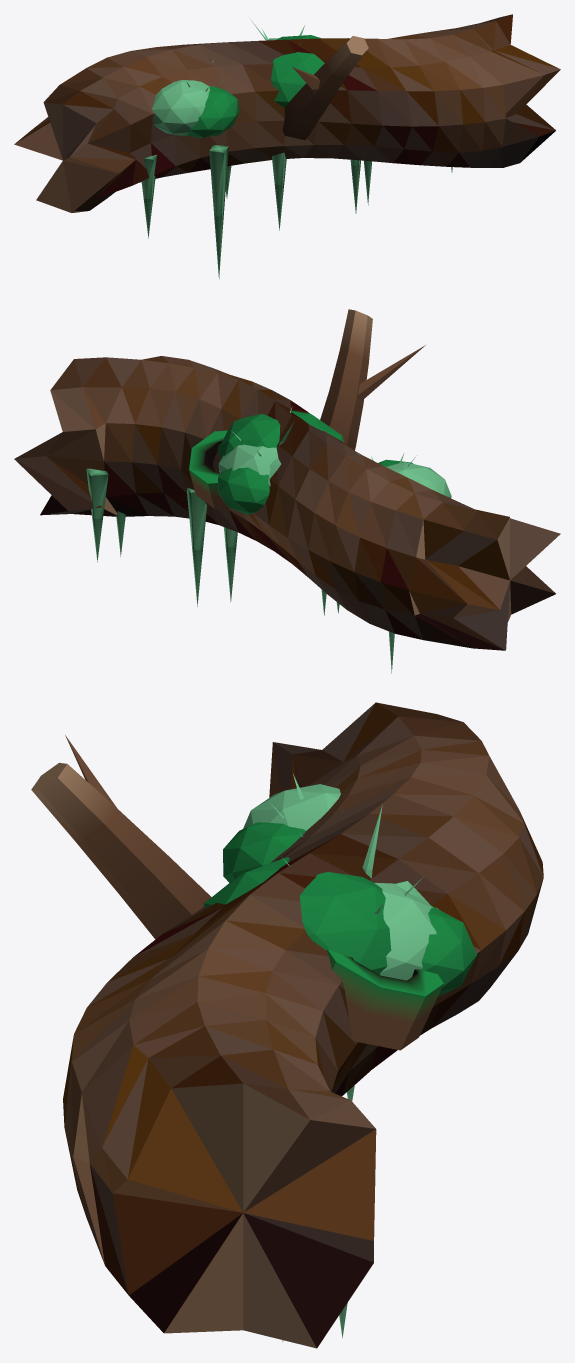
The model's file is pohon_tumbang_bridge_rainforest_559275 (1).glb.
3 views of the same model, one above another, from view 1: azimuth 30°, elevation 25°; view 2: azimuth 150°, elevation 25°; view 3: azimuth 270°, elevation 25° (orthographic). The views are drawn at different scales.
Visible parts, largest first — view 1: Batang_Melintang_Sungai; view 2: Batang_Melintang_Sungai; view 3: Batang_Melintang_Sungai.
Boxes of the visible parts, box(x1,y1,x2,y2) form: Batang_Melintang_Sungai: box(14, 14, 560, 279); Batang_Melintang_Sungai: box(14, 309, 560, 673); Batang_Melintang_Sungai: box(31, 702, 543, 1348).
Bounding box in the file's own units: 5.15 × 2.82 × 2.5.
